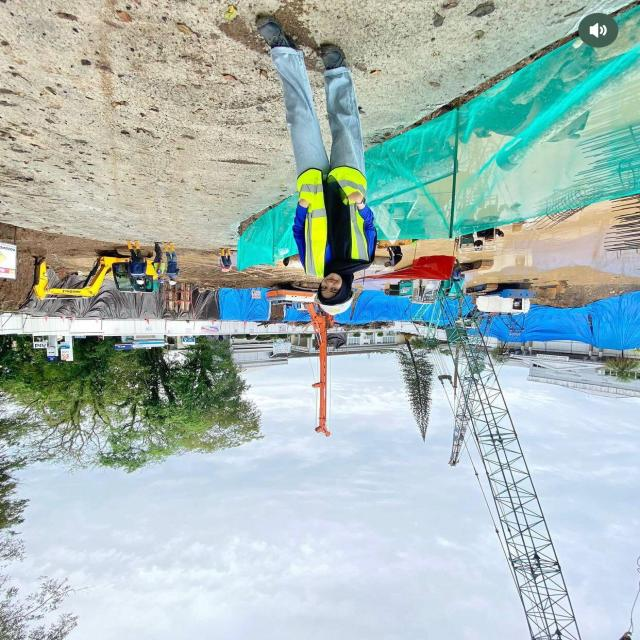safetyhelmet: (312, 266, 364, 321)
